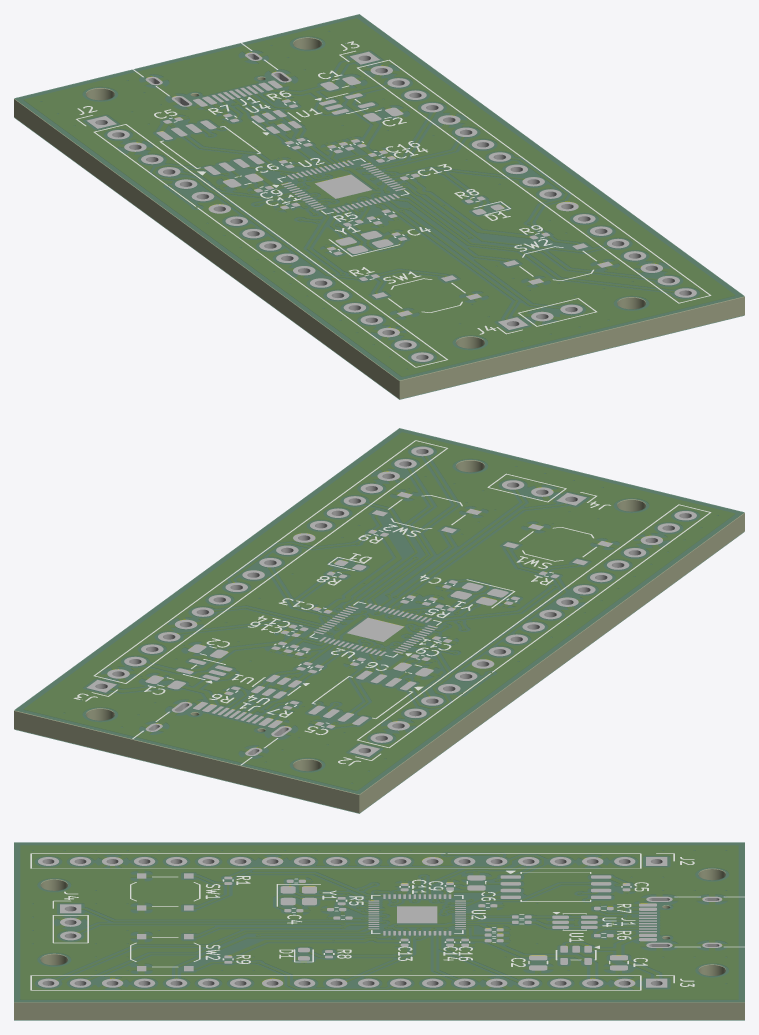
File: board.glb
3 renders of one model, top to bottom at view 1: azimuth 30°, elevation 25°; view 2: azimuth 150°, elevation 25°; view 3: azimuth 270°, elevation 25°, orthographic. The views are drawn at different scales.
Visible parts, largest first — view 1: =>[0:1:1:6], =>[0:1:1:2], =>[0:1:1:8], =>[0:1:1:5]; view 2: =>[0:1:1:6], =>[0:1:1:2], =>[0:1:1:8], =>[0:1:1:5]; view 3: =>[0:1:1:6], =>[0:1:1:2], =>[0:1:1:8], =>[0:1:1:5].
Part boxes in pixels (x1=…): =>[0:1:1:6]: x1=14, y1=14, x2=744, y2=399; =>[0:1:1:2]: x1=24, y1=19, x2=734, y2=376; =>[0:1:1:8]: x1=14, y1=15, x2=744, y2=399; =>[0:1:1:5]: x1=76, y1=41, x2=711, y2=367; =>[0:1:1:6]: x1=14, y1=428, x2=744, y2=813; =>[0:1:1:2]: x1=24, y1=433, x2=734, y2=790; =>[0:1:1:8]: x1=14, y1=429, x2=744, y2=813; =>[0:1:1:5]: x1=73, y1=440, x2=711, y2=765; =>[0:1:1:6]: x1=14, y1=842, x2=744, y2=1020; =>[0:1:1:2]: x1=21, y1=846, x2=737, y2=999; =>[0:1:1:8]: x1=14, y1=843, x2=744, y2=1019; =>[0:1:1:5]: x1=30, y1=853, x2=744, y2=990.
Bounding box in the file's own units: 0.03 × 0.00163 × 0.058.
Materials: 4 (4 with a texture image).
